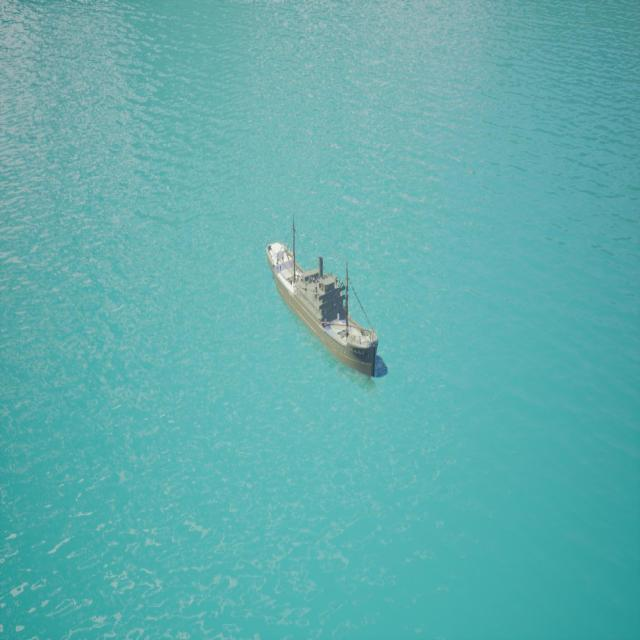fishing ship: (264, 243, 383, 380)
